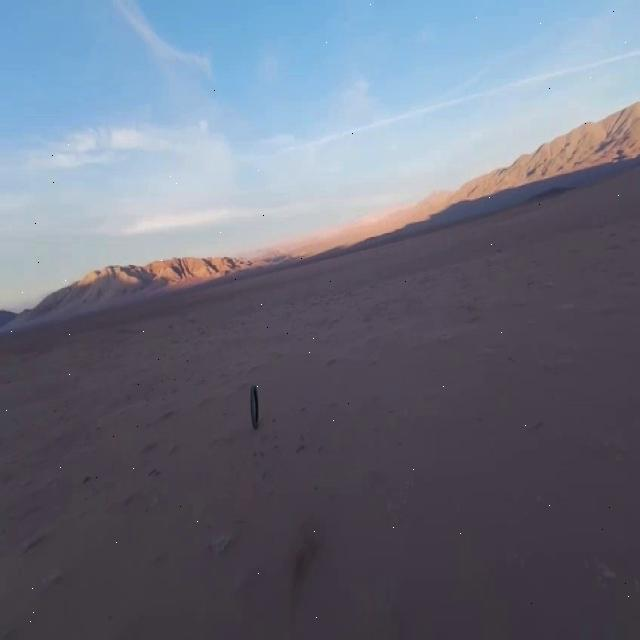Tire: (251, 386, 260, 427)
